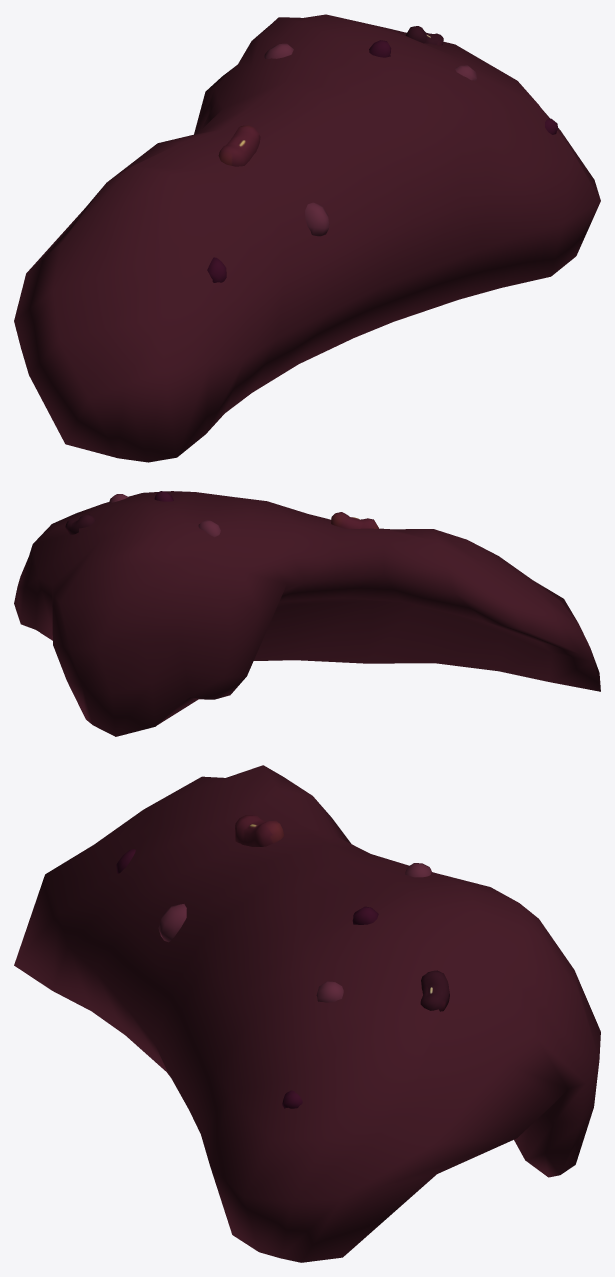
The model's file is paste_main.fbx.
3 renders of one model, top to bottom at view 1: azimuth 30°, elevation 25°; view 2: azimuth 150°, elevation 25°; view 3: azimuth 270°, elevation 25°, orthographic. The views are drawn at different scales.
Parts seen in each view (by area): view 1: Cube.044; view 2: Cube.044; view 3: Cube.044.
Boxes of the visible parts, left/top/right/bottom form: Cube.044: left=14, top=14, right=600, bottom=462; Cube.044: left=14, top=491, right=600, bottom=736; Cube.044: left=14, top=765, right=600, bottom=1262.
Bounding box in the file's own units: 604 × 221 × 417.
